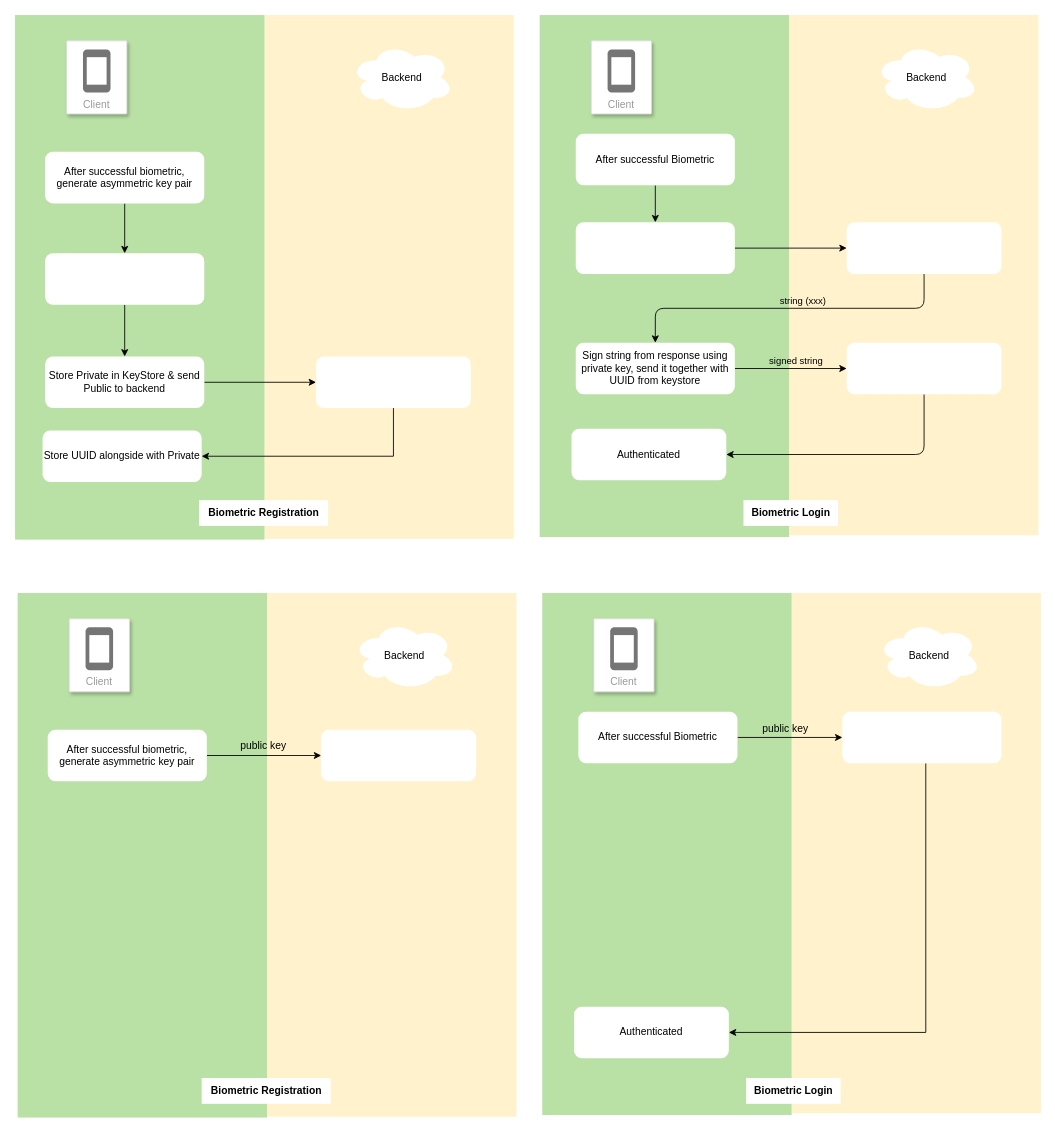
Some shapes in this 1055 by 1132 pixel diagram are drawn without their labels. The centre of each missing label's shape, as x and y in pixels:
"compare public key with key from DB" belongs at pixel 921 737.
"Create a random string, store & return it" belongs at pixel 923 247.
"Request Sign Challenge using UUID from keystore" belongs at pixel 654 247.
"Retrieve Unique Id from backend, Generate Private, Public keys" belongs at pixel 124 278.
"Store Public key alongside with user" belongs at pixel 398 755.
"Store Public, respond UUID" belongs at pixel 393 382.
"Verify it using Public Key, return auth token" belongs at pixel 923 368.
